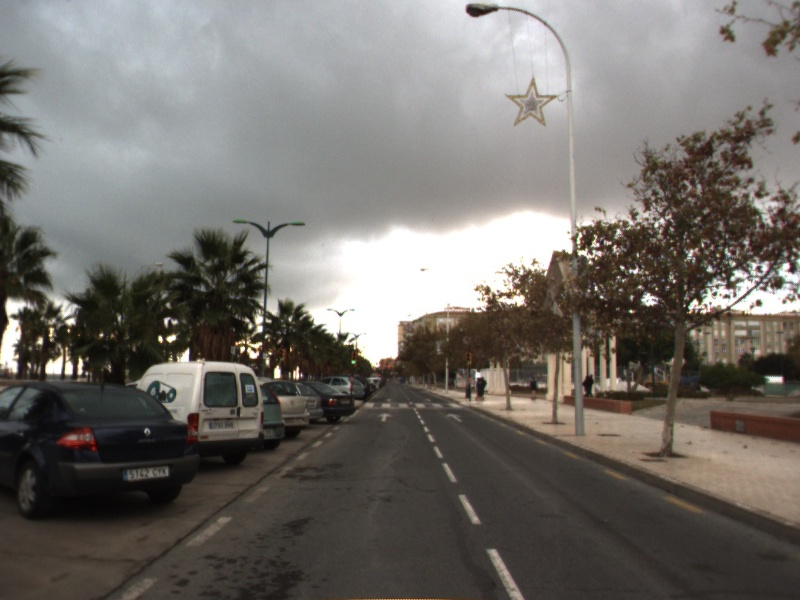STRAIGHT: (443, 411, 465, 424), (375, 411, 395, 423)
